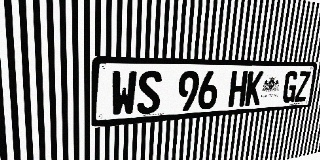6: (197, 71, 219, 110)
9: (177, 71, 200, 112)
G: (281, 71, 299, 103)
H: (228, 71, 248, 107)
K: (244, 71, 264, 106)
S: (137, 71, 162, 115)
W: (110, 70, 137, 117)
Z: (294, 71, 311, 102)
